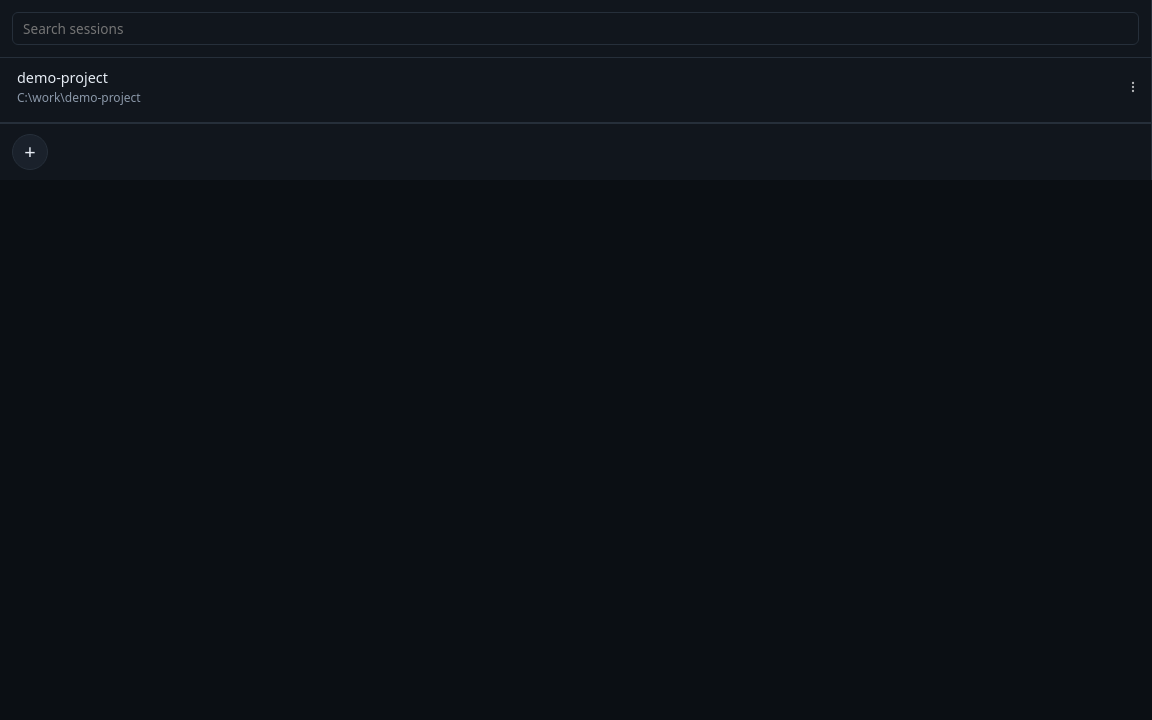
Test: ProjectSidebar › lists only historical projects outside the current list and reopens the chosen record
The width and height of the screenshot is (1152, 720).
Click the button named "Add Project": click(30, 152) x1=12 y1=134 x2=48 y2=170
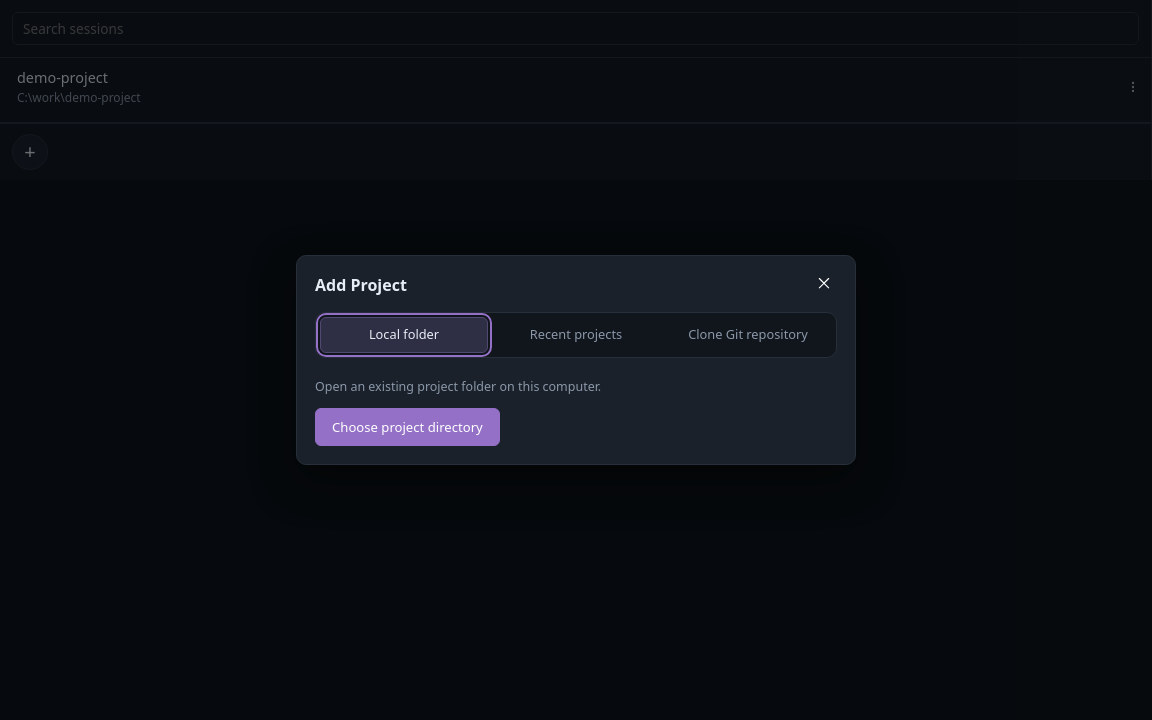
Click the button "Recent projects": click(576, 335) x1=492 y1=317 x2=660 y2=353
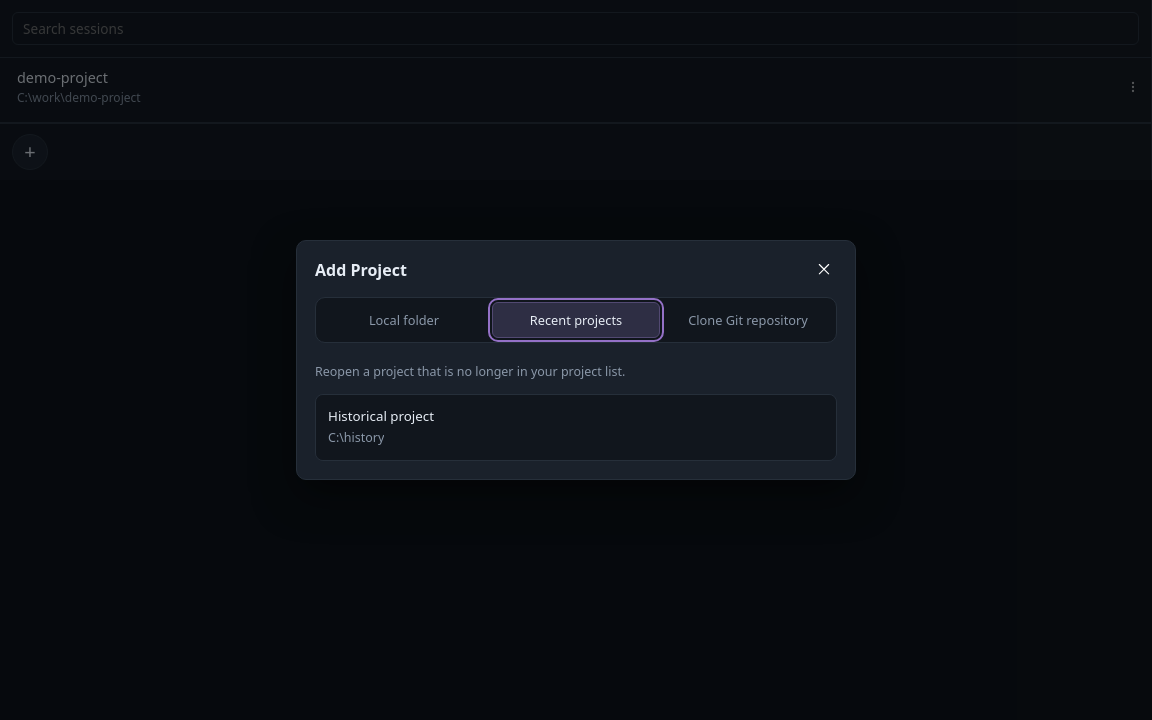
Click the button "Historical project C:\\history": click(381, 416) x1=316 y1=395 x2=836 y2=460
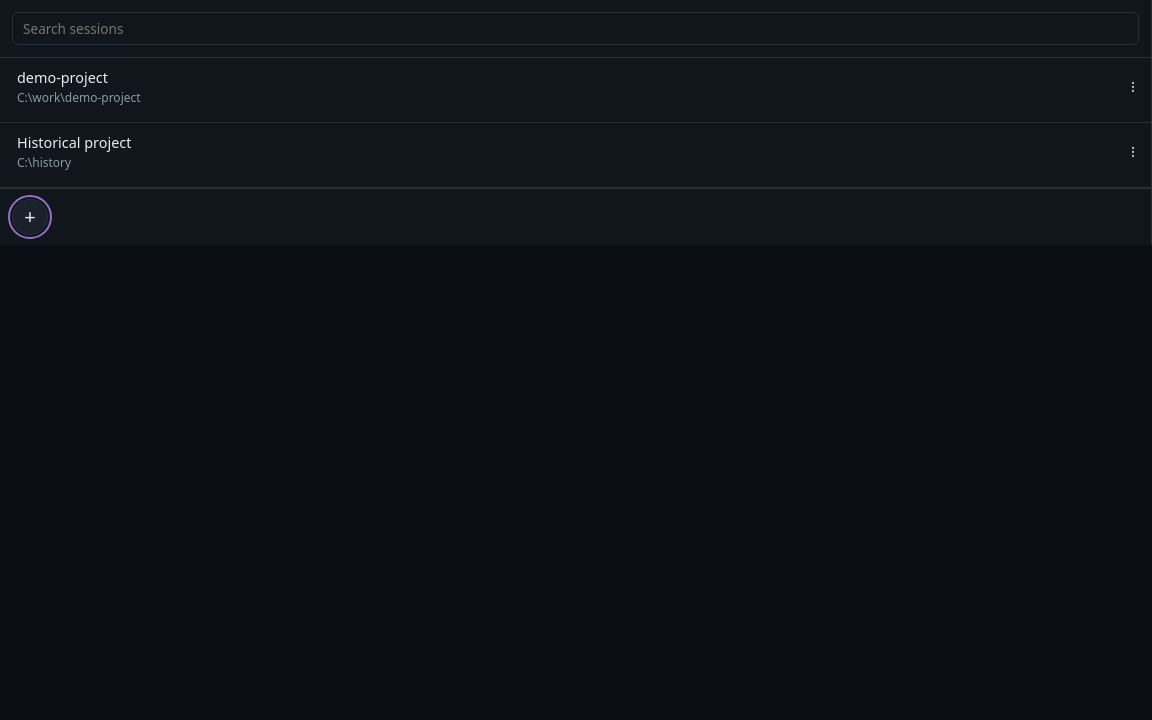
Expected: the dialog is gone
